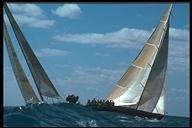sailboat: (84, 4, 174, 120), (4, 3, 80, 104)
sky: (41, 4, 131, 60)
water: (5, 109, 85, 126)
